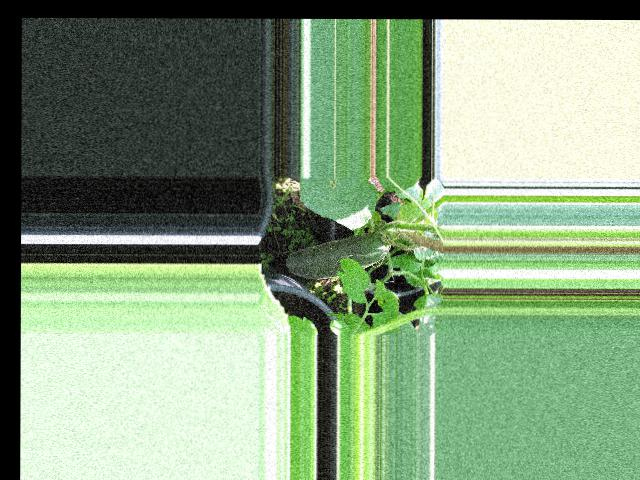cucumber: (286, 231, 390, 279)
